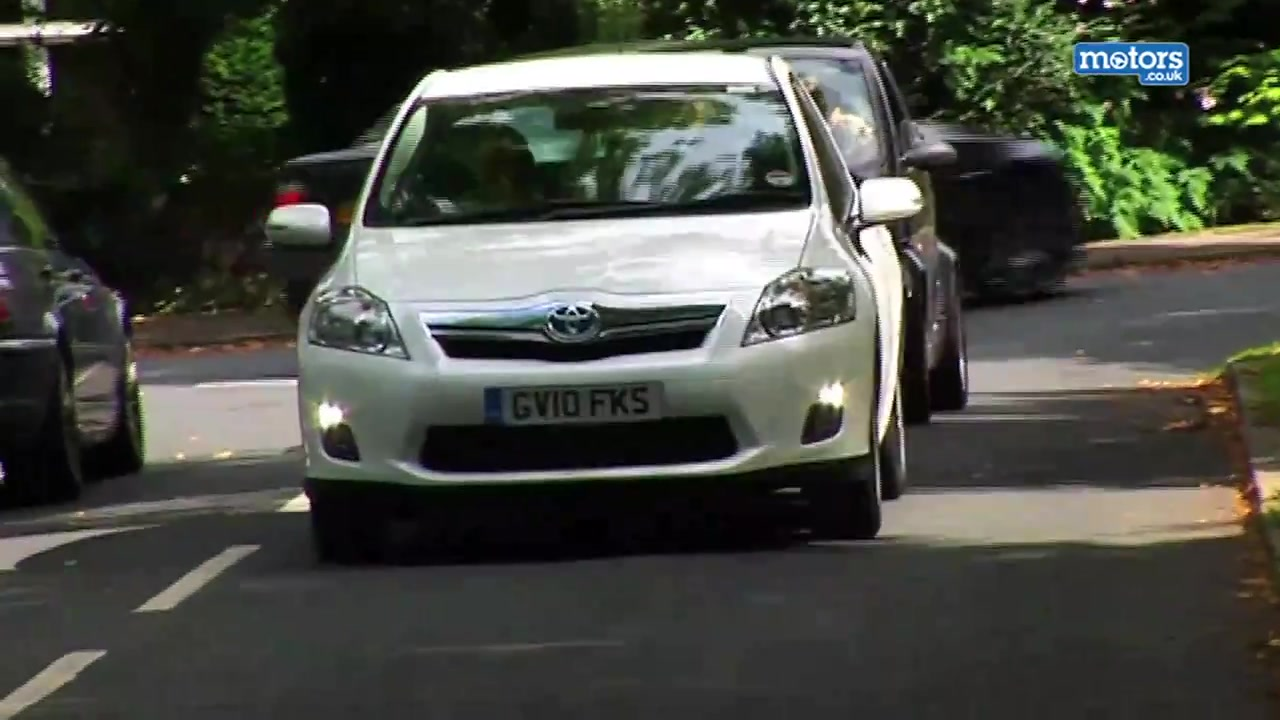car: (263, 52, 925, 543), (259, 41, 1092, 314), (581, 36, 973, 423), (1, 147, 148, 505)
